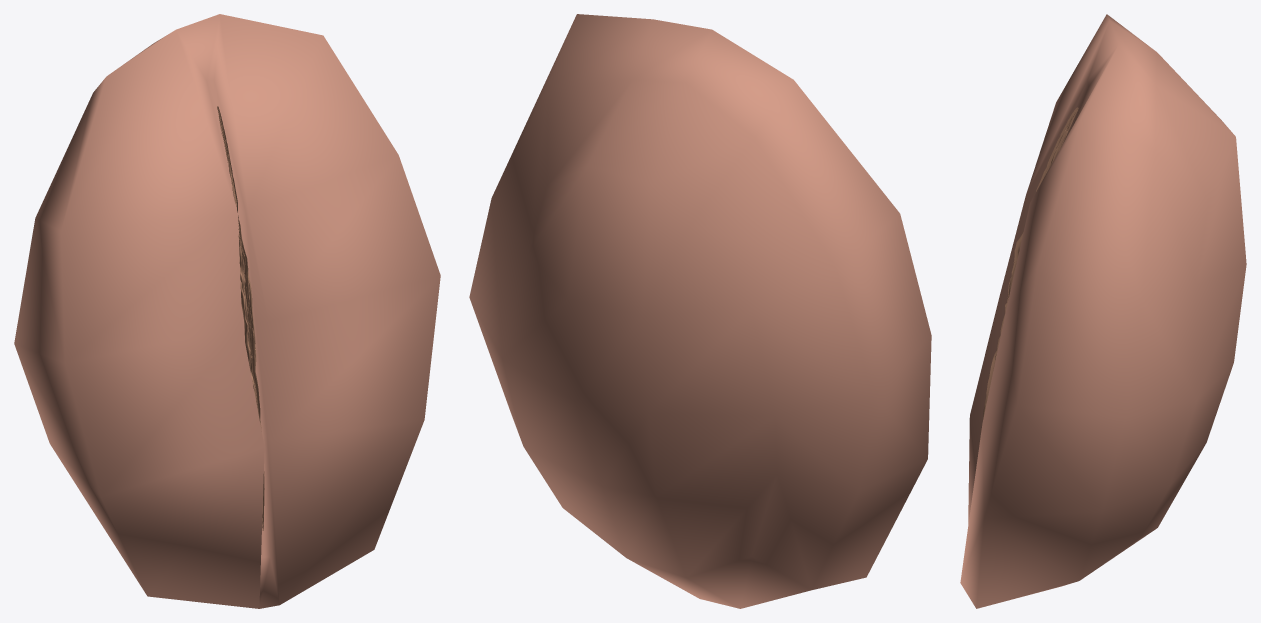
Rendered from grano.gltf.
3 renders of one model, left to right at view 1: azimuth 30°, elevation 25°; view 2: azimuth 150°, elevation 25°; view 3: azimuth 270°, elevation 25°, orthographic. The views are drawn at different scales.
Parts seen in each view (by area): view 1: granocafe, Plane018; view 2: granocafe; view 3: granocafe, Plane018.
Part boxes in pixels (left/top/right/bottom): granocafe: left=14, top=14, right=440, bottom=608; Plane018: left=217, top=106, right=264, bottom=530; granocafe: left=469, top=14, right=931, bottom=608; granocafe: left=960, top=14, right=1246, bottom=608; Plane018: left=980, top=107, right=1078, bottom=439.
Bounding box in the file's own units: 2.96 × 4.05 × 1.91.
